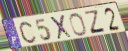2: (104, 7, 122, 33)
5: (35, 18, 53, 42)
C: (19, 21, 38, 44)
O: (68, 12, 88, 37)
X: (49, 13, 73, 40)
Z: (84, 9, 107, 35)
